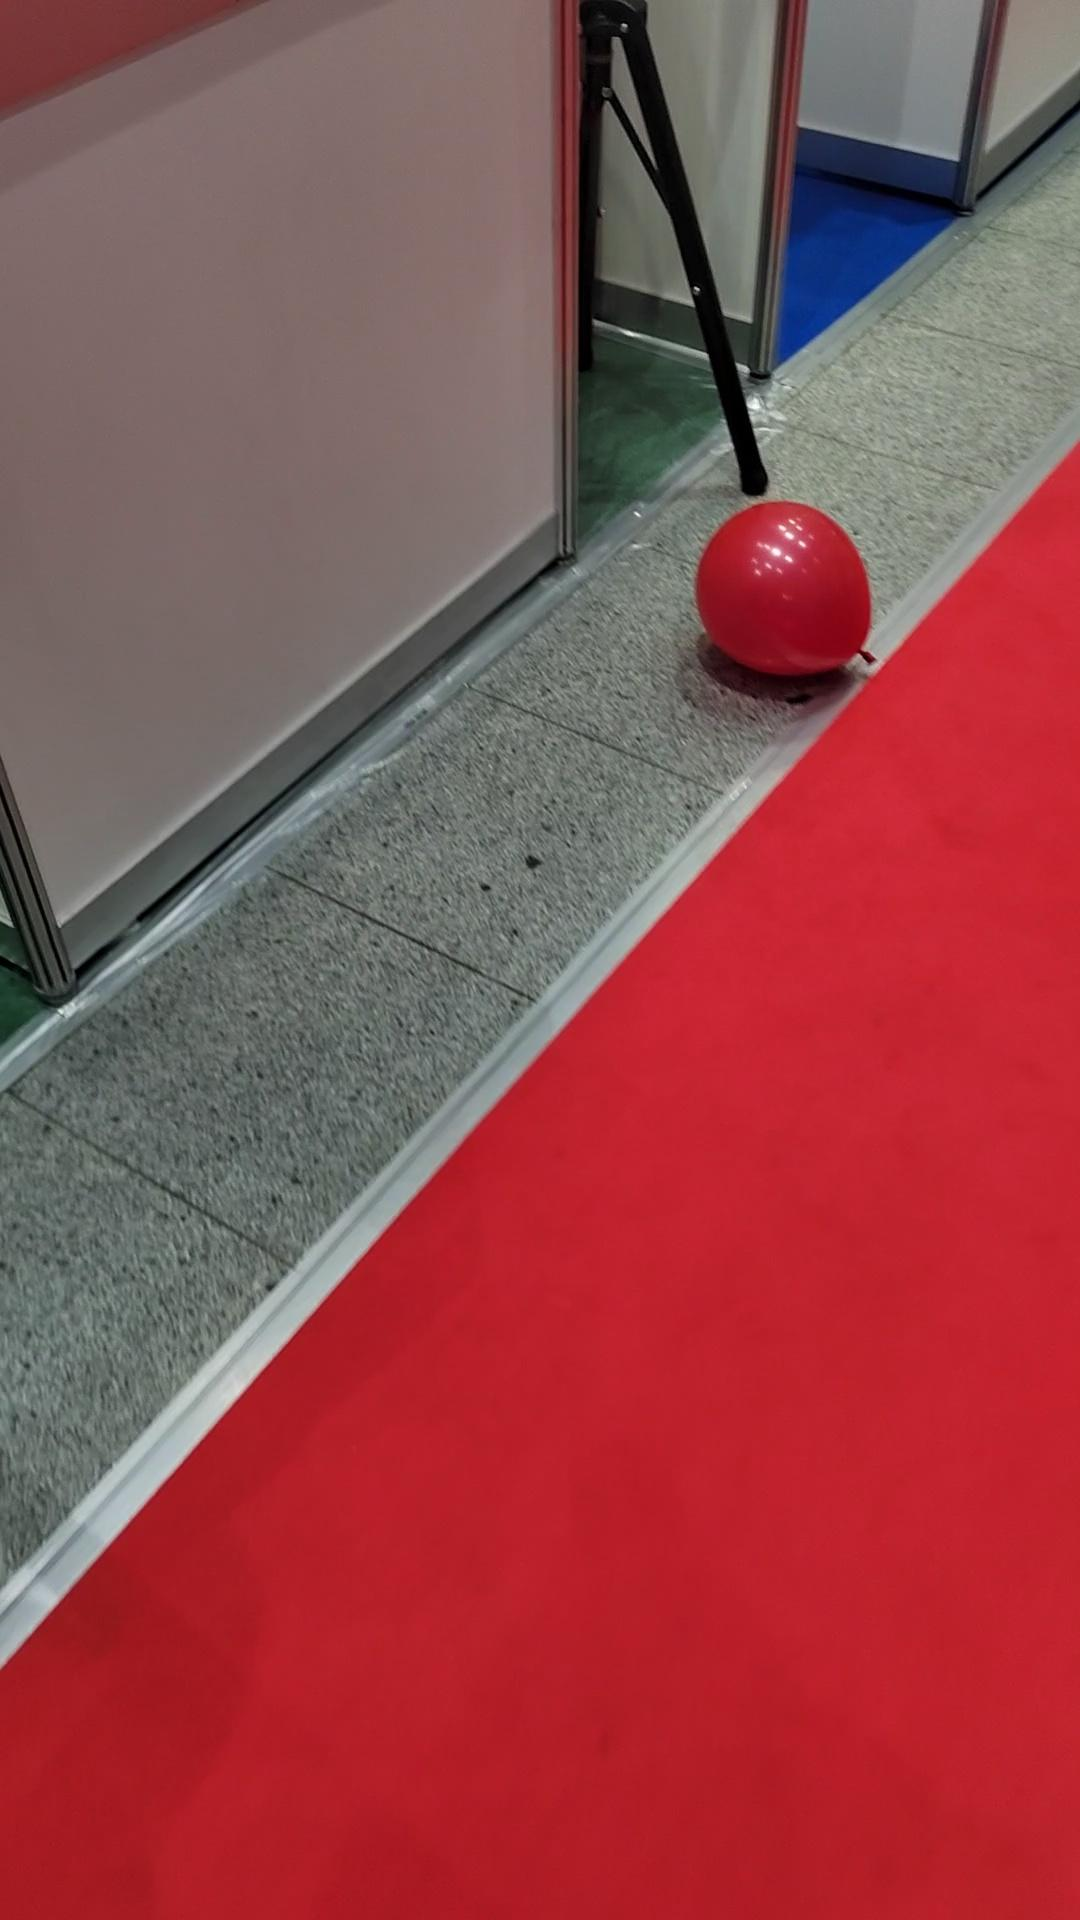red: (690, 497, 876, 688)
